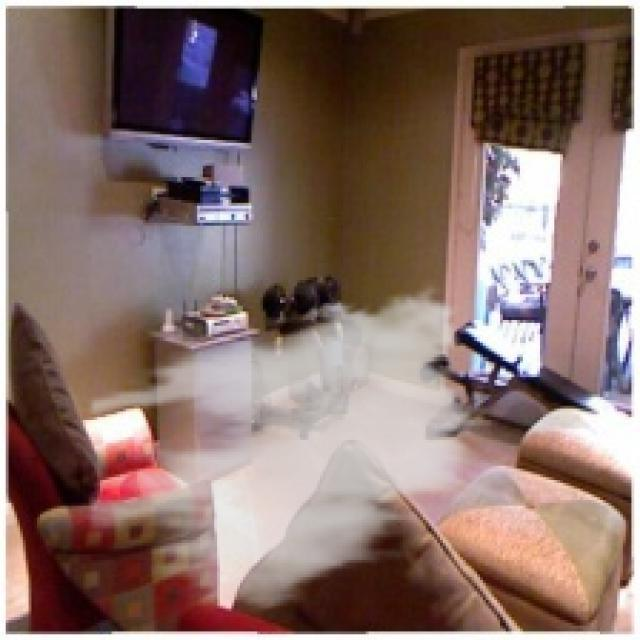Smoke: (89, 277, 492, 620)
